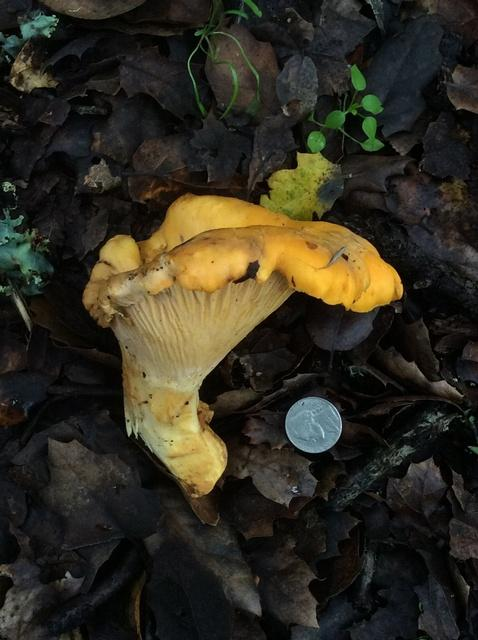Edible Mushroom: (81, 191, 404, 502)
